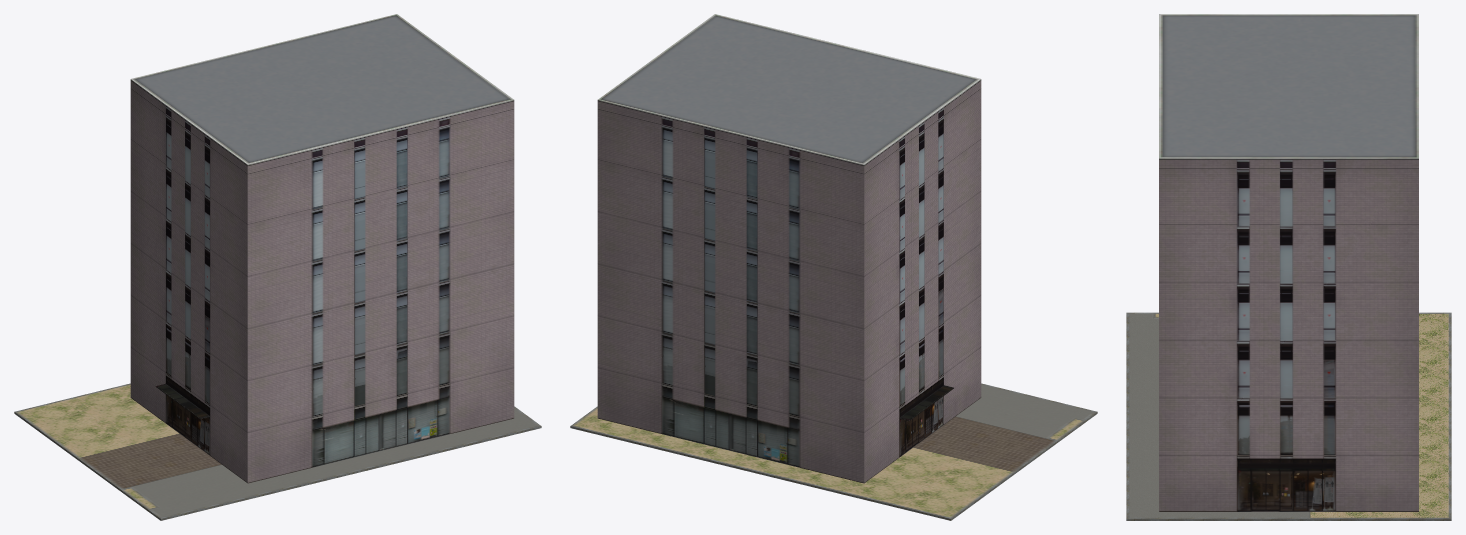
File: Office_building_purple.fbx
3 renders of one model, left to right at view 1: azimuth 30°, elevation 25°; view 2: azimuth 150°, elevation 25°; view 3: azimuth 270°, elevation 25°, orthographic. The views are drawn at different scales.
Parts seen in each view (by area): view 1: 100_office_building_purple, 000_Site_office_building_purple; view 2: 100_office_building_purple, 000_Site_office_building_purple; view 3: 100_office_building_purple, 000_Site_office_building_purple.
Part boxes in pixels (left/top/right/bottom): 100_office_building_purple: left=130, top=14, right=514, bottom=483; 000_Site_office_building_purple: left=14, top=383, right=541, bottom=520; 100_office_building_purple: left=597, top=14, right=981, bottom=483; 000_Site_office_building_purple: left=570, top=383, right=1097, bottom=520; 100_office_building_purple: left=1159, top=14, right=1418, bottom=511; 000_Site_office_building_purple: left=1126, top=312, right=1451, bottom=520.
Size of the model in its own units: 30 by 24.15 by 20.
